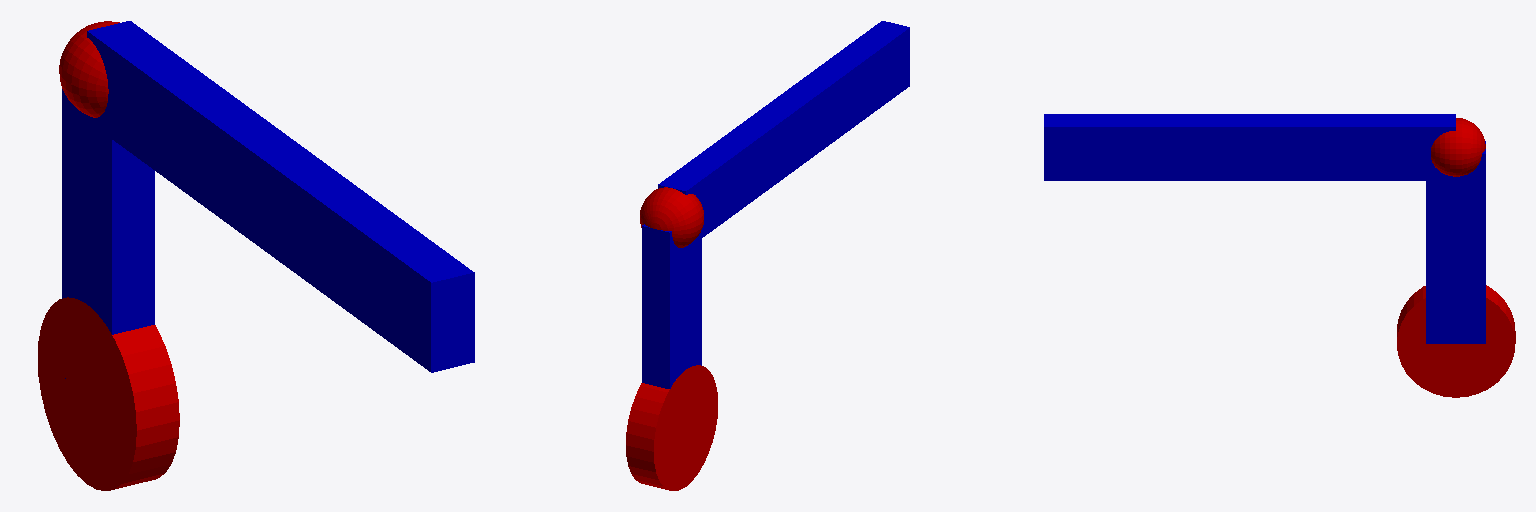
robot.urdf — TwoLinkStruct1944486954:
<?xml version="1.0"?>
<robot  name="TwoLinkStruct1944486954" >
 <material  name="blue" >
  <color  rgba="0 0 0.8 1.0" />
 </material>
 <material  name="red" >
  <color  rgba="0.8 0 0 1.0" />
 </material>
 <link  name="base_link" >
  <visual >
   <origin  rpy="0 1.5707 0"  xyz="0 0 0" />
   <material  name="red" />
   <geometry >
    <cylinder  length="0.05"  radius="0.1" />
   </geometry>
  </visual>
 </link>
 <joint  type="revolute"  name="joint1" >
  <parent  link="base_link" />
  <child  link="link1" />
  <origin  xyz="0 0 0"  rpy="0 0 0" />
  <axis  xyz="1 0 0" />
 </joint>
 <link  name="link1" >
  <inertial >
   <origin  rpy="0 0 0"  xyz="0 0 0.17675451159097627" />
   <mass  value="0.7185521911999614" />
   <inertia  ixy="0.0"  iyy="0.0002993967463333173"  izz="0.007632738584640406"  ixz="0.0"  ixx="0.007632738584640406"  iyz="0.0" />
  </inertial>
  <visual >
   <origin  rpy="0 0 0"  xyz="0 0 0.17675451159097627" />
   <material  name="blue" />
   <geometry >
    <box  size="0.05 0.1 0.35350902318195254" />
   </geometry>
  </visual>
 </link>
 <joint  type="fixed"  name="joint-joint-1" >
  <parent  link="link1" />
  <child  link="joint-link-1" />
  <origin  xyz="0 0 0.35350902318195254"  rpy="1.5707 0 0" />
  <axis  xyz="1 0 0" />
 </joint>
 <link  name="joint-link-1" >
  <inertial >
   <origin  rpy="0 0 0"  xyz="0 0 0" />
   <mass  value="3.5861688333410235" />
   <inertia  ixy="0"  iyy="0"  izz="0"  ixz="0"  ixx="0"  iyz="0" />
  </inertial>
  <visual >
   <origin  rpy="0 0 0"  xyz="0 0 0" />
   <material  name="red" />
   <geometry >
    <sphere  radius="0.05" />
   </geometry>
  </visual>
 </link>
 <joint  type="revolute"  name="joint2" >
  <parent  link="link1" />
  <child  link="link2" />
  <origin  xyz="0 0 0.35350902318195254"  rpy="1.5707 0 0" />
  <axis  xyz="1 0 0" />
 </joint>
 <link  name="link2" >
  <inertial >
   <origin  rpy="0 0 0"  xyz="0 0 0.34646199046379444" />
   <mass  value="2.042663538905647" />
   <inertia  ixy="0.0"  iyy="0.0002993967463333173"  izz="0.02890038729116251"  ixz="0.0"  ixx="0.02890038729116251"  iyz="0.0" />
  </inertial>
  <visual >
   <origin  rpy="0 0 0"  xyz="0 0 0.34646199046379444" />
   <material  name="blue" />
   <geometry >
    <box  size="0.05 0.1 0.6929239809275889" />
   </geometry>
  </visual>
 </link>
 <joint  type="fixed"  name="eef_joint" >
  <parent  link="link2" />
  <child  link="eef" />
  <origin  xyz="0 0 0.6929239809275889"  rpy="0 0 0" />
 </joint>
 <link  name="eef" >
  <inertial >
   <origin  rpy="0 0 0"  xyz="0 0 0" />
   <mass  value="1" />
   <inertia  ixy="0"  iyy="0"  izz="0"  ixz="0"  ixx="0"  iyz="0" />
  </inertial>
 </link>
 <transmission  name="motor1" >
  <type  xmltext="SimpleTransmission" >
   SimpleTransmission
  </type>
  <actuator  name="motor1" >
   <mechanicalreduction  xmltext="1" >
    1
   </mechanicalreduction>
  </actuator>
  <joint  name="joint1" />
 </transmission>
 <transmission  name="motor2" >
  <type  xmltext="SimpleTransmission" >
   SimpleTransmission
  </type>
  <actuator  name="motor2" >
   <mechanicalreduction  xmltext="1" >
    1
   </mechanicalreduction>
  </actuator>
  <joint  name="joint2" />
 </transmission>
</robot>

<!-- {'carti': array([-0.1 ,  0.14,  0.85]), 'cartd': array([-0.1 ,  0.32,  1.29]), 'tau_mu': 0.8059709864463274, 'b0': 1.0, 'Km': 5.0, 'k_velocity': 49.49232565056403, 'tau_max_m': 5.0, 'omega_max_m': 7279.259461727083, 'gear_ratio': 15.545549213183032, 'Kp': 30.809006330205698, 'Kd': 74.9895181663925, 'm_m': 3.5861688333410235, 'l1': 0.35350902318195254, 'l2': 0.6929239809275889, 'k1': 11643.372463588828, 'k2': 88563691.96730871, 'k3': 307270086.8360272}-->

--- Render facts (derived) ---
Views: 3 orthographic renders of the robot side by side, from view 1: azimuth 30°, elevation 25°; view 2: azimuth 150°, elevation 25°; view 3: azimuth 270°, elevation 25°.
Robot: TwoLinkStruct1944486954 — 5 links, 4 joints (2 revolute, 2 fixed); root link base_link; default pose: every joint at zero.
Links seen in each view (by area): view 1: link2, base_link, link1, joint-link-1; view 2: link2, base_link, link1, joint-link-1; view 3: link2, link1, base_link, joint-link-1.
Link boxes in pixels (left/top/right/bottom): link2: left=87, top=21, right=474, bottom=372; base_link: left=38, top=297, right=179, bottom=490; link1: left=62, top=89, right=154, bottom=378; joint-link-1: left=59, top=21, right=119, bottom=117; link2: left=658, top=21, right=909, bottom=249; base_link: left=626, top=365, right=717, bottom=490; link1: left=642, top=224, right=701, bottom=388; joint-link-1: left=640, top=187, right=703, bottom=247; link2: left=1044, top=114, right=1455, bottom=180; link1: left=1426, top=141, right=1485, bottom=343; base_link: left=1397, top=285, right=1515, bottom=397; joint-link-1: left=1431, top=118, right=1485, bottom=176.
Bounding box of the posed robot: 0.1 × 0.7929 × 0.5036 m (x, y, z).
Geometry: primitives only (box / cylinder / sphere), no mesh files.
